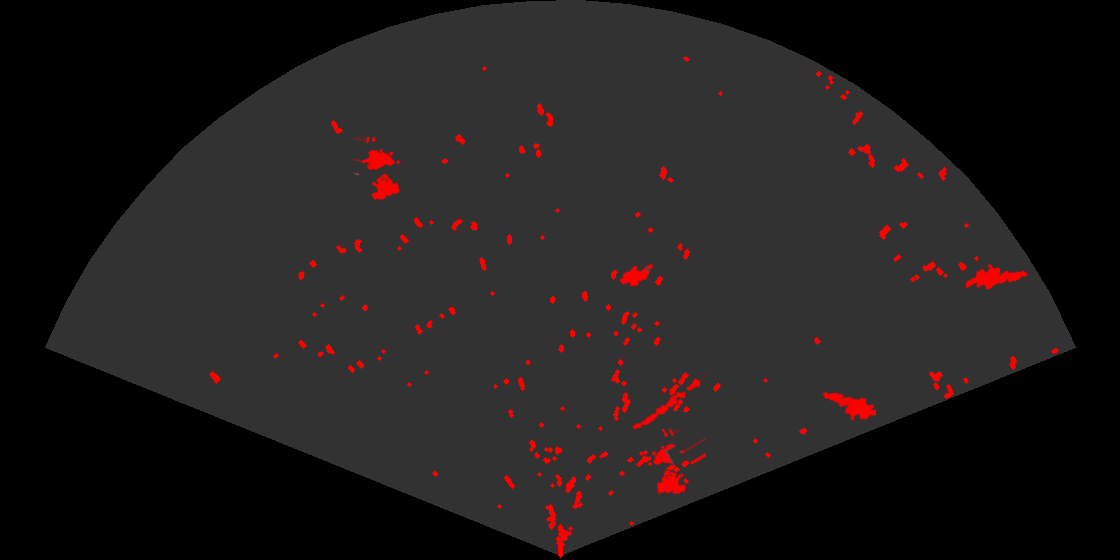AUV: (618, 262, 655, 288)
cage: (646, 429, 706, 496), (353, 137, 402, 202)
chain: (631, 371, 711, 431)
frogman: (966, 262, 1029, 291), (822, 391, 876, 423)
